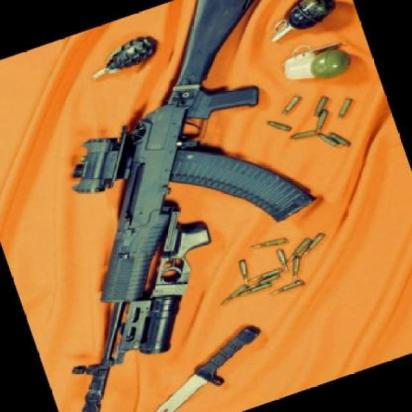Gun: (1, 0, 394, 412)
